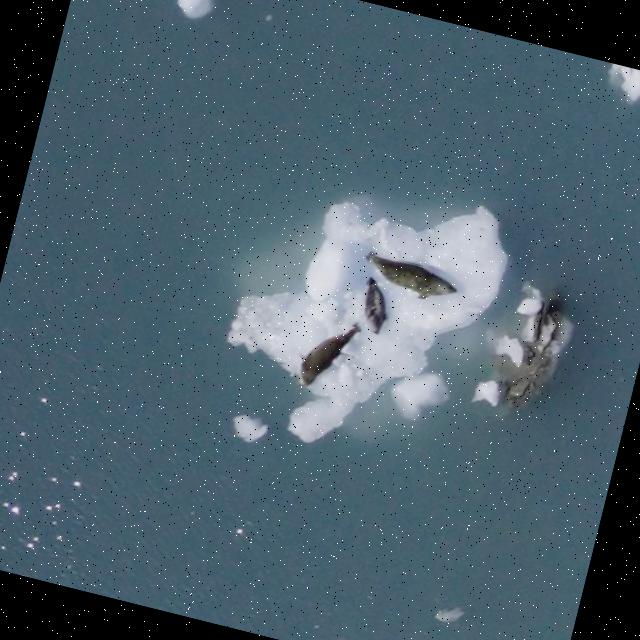seal: (362, 241, 461, 312), (286, 313, 364, 391), (361, 278, 389, 336)
